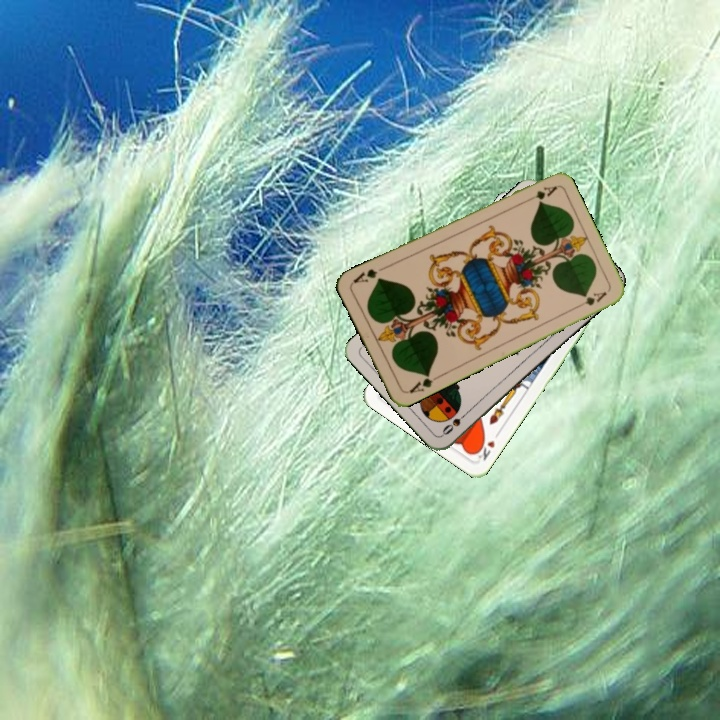GA: (404, 369, 442, 396), (520, 182, 559, 205)
HK: (471, 427, 503, 463)
SO: (438, 407, 472, 438)
